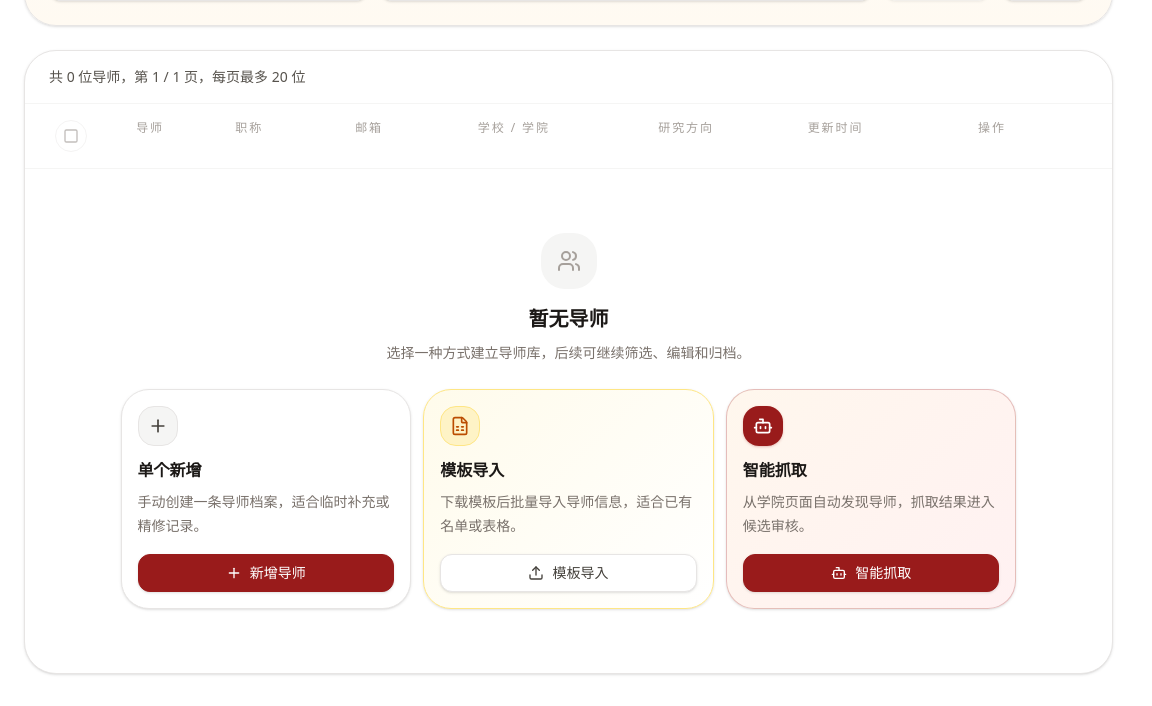
ProfessorsPage crawler job entry › creates a crawl job with multiple unique list page urls
(page scrolled)
Click the button "智能抓取" at (871, 573), box x1=743 y1=554 x2=1000 y2=592
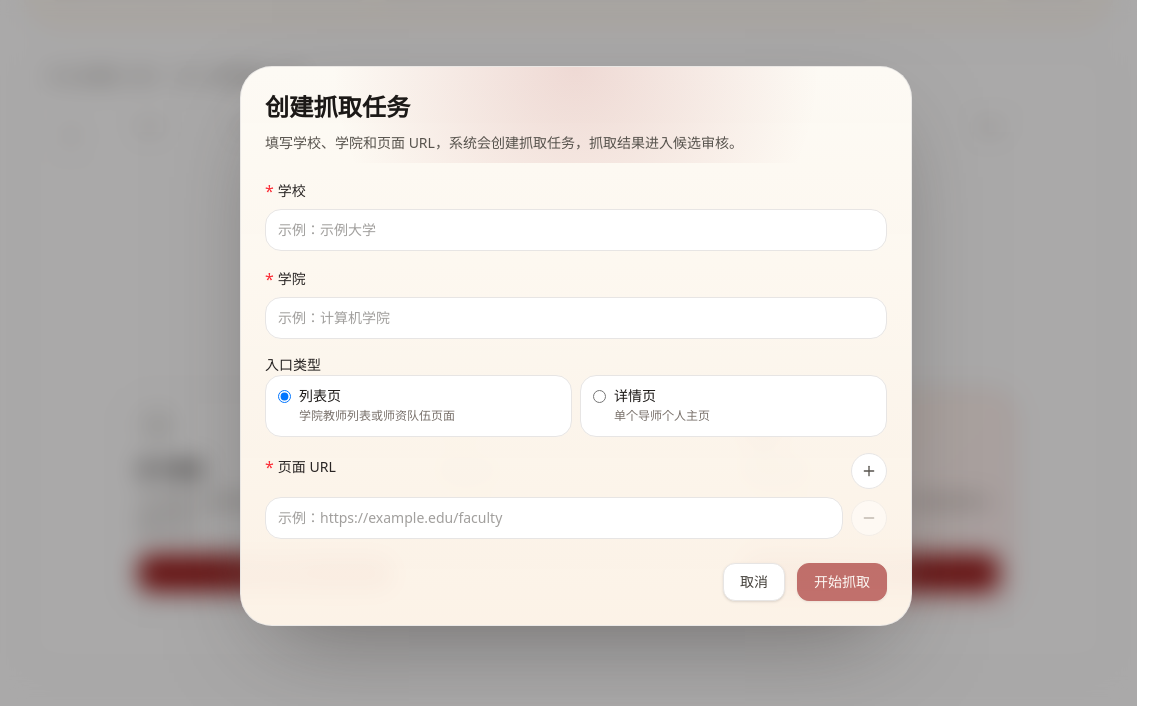
Type "示例大学" into the field labelled "学校" at (576, 230), box x1=265 y1=209 x2=887 y2=251
Type "计算机学院" into the field labelled "学院" at (576, 318), box x1=265 y1=297 x2=887 y2=339
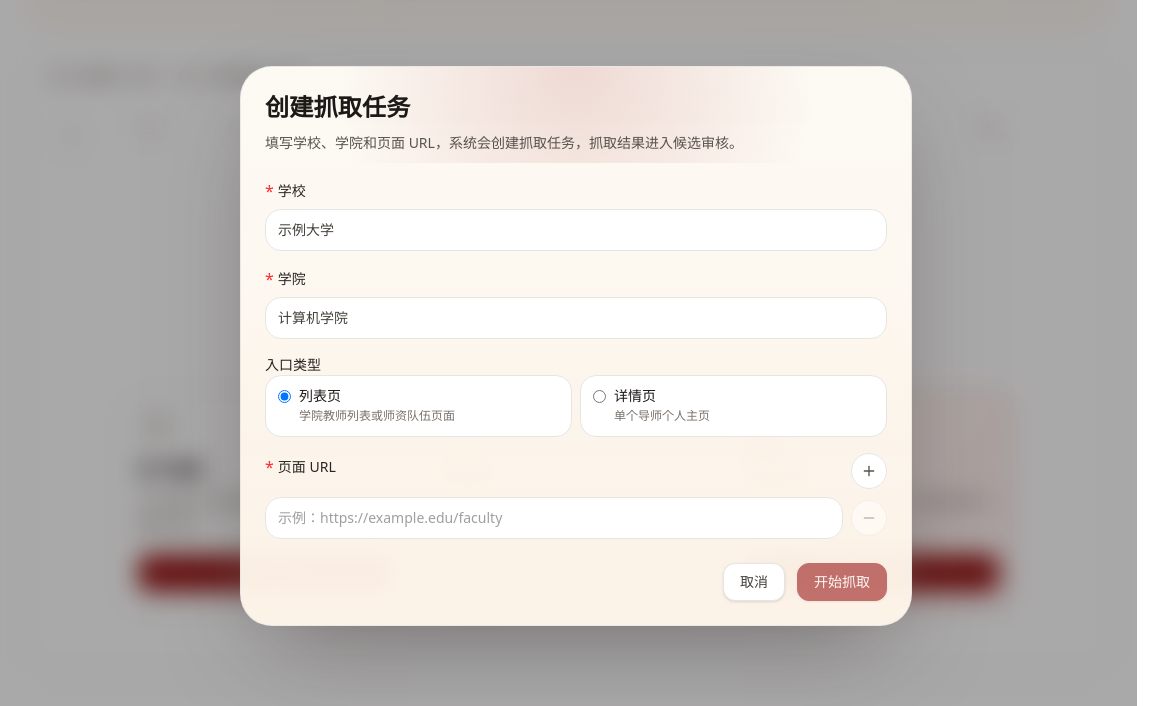
Type "https://example.edu/faculty" into the field named "页面 URL" at (554, 518), box x1=265 y1=497 x2=843 y2=539
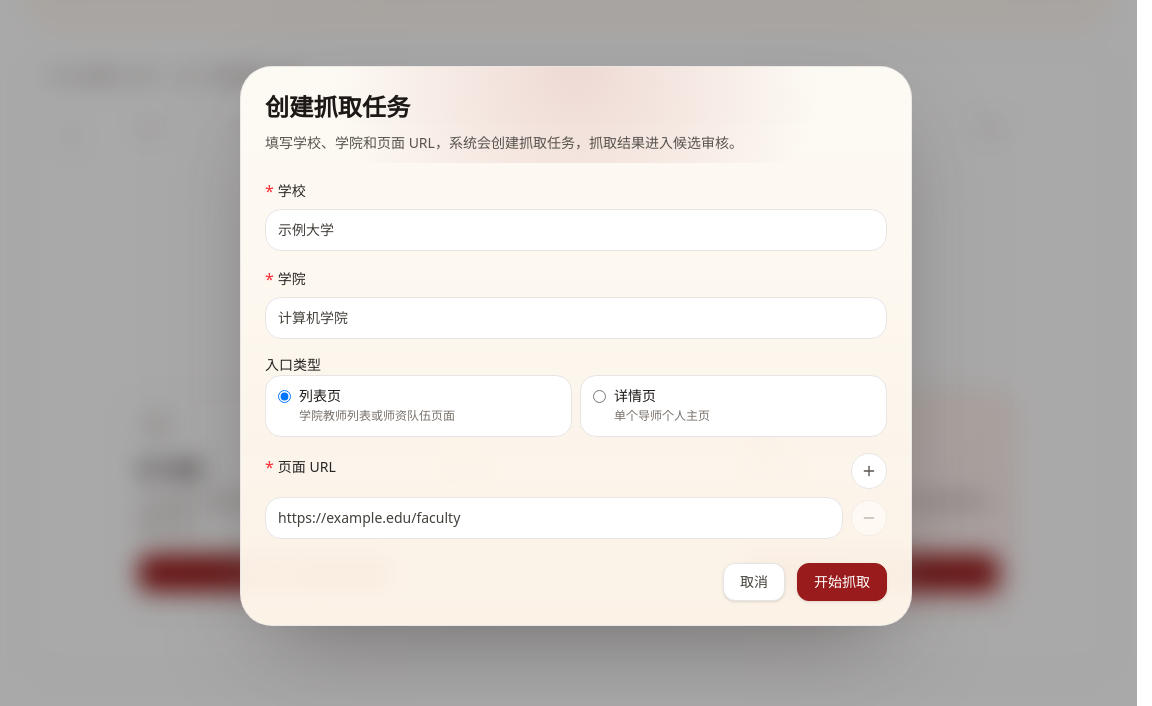
Click the button named "添加页面 URL" at (869, 471), box x1=851 y1=453 x2=887 y2=489
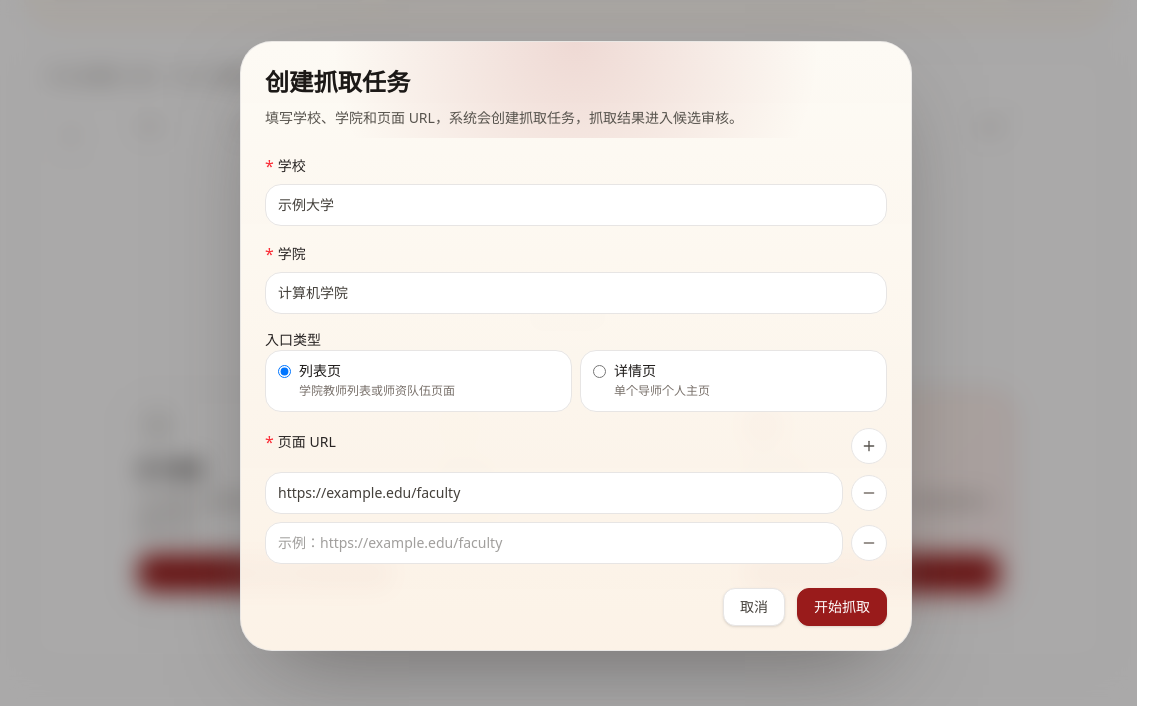
Type " https://example.edu/faculty/page/2 " into the field named "页面 URL" at (554, 543), box x1=265 y1=522 x2=843 y2=564
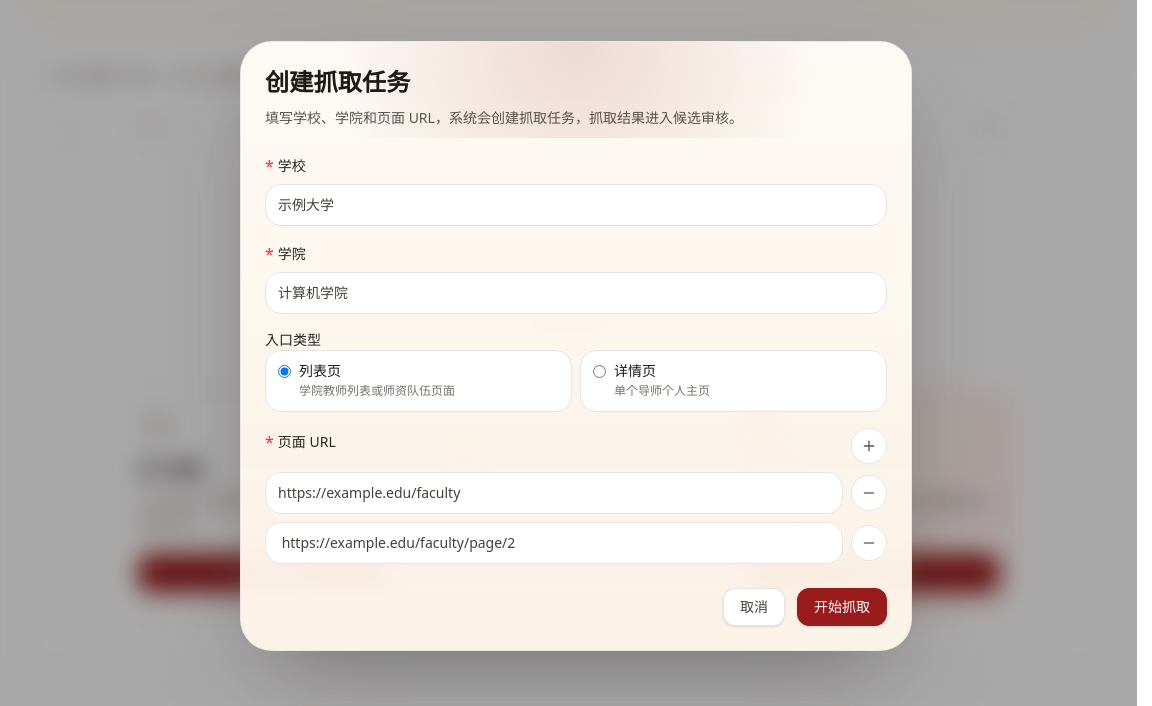
Click the button "开始抓取" at (842, 607), box x1=797 y1=588 x2=887 y2=626
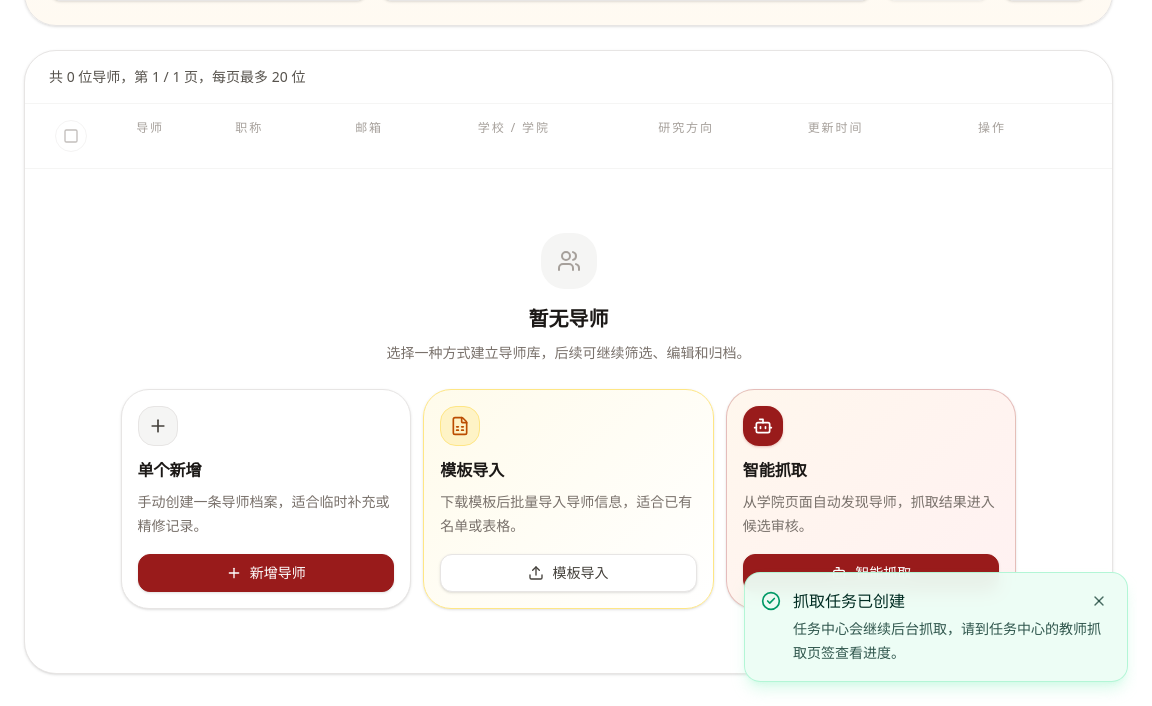
Expected: the text "任务中心会继续后台抓取，请到任务中心的教师抓取页签查看进度。" is shown, x1=793 y1=617 x2=1111 y2=665
